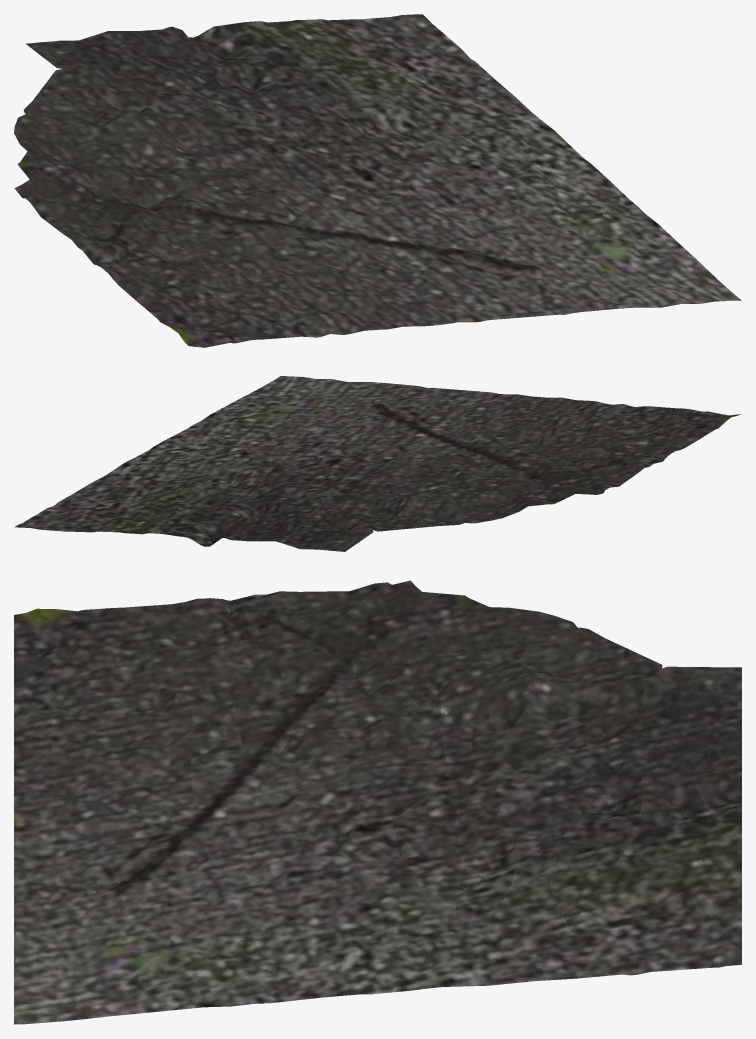
3 renders of one model, top to bottom at view 1: azimuth 30°, elevation 25°; view 2: azimuth 150°, elevation 25°; view 3: azimuth 270°, elevation 25°, orthographic. The views are drawn at different scales.
Size of the model in its own units: 0.8374 by 0.1731 by 0.8374.
3 materials, 3 textured.
